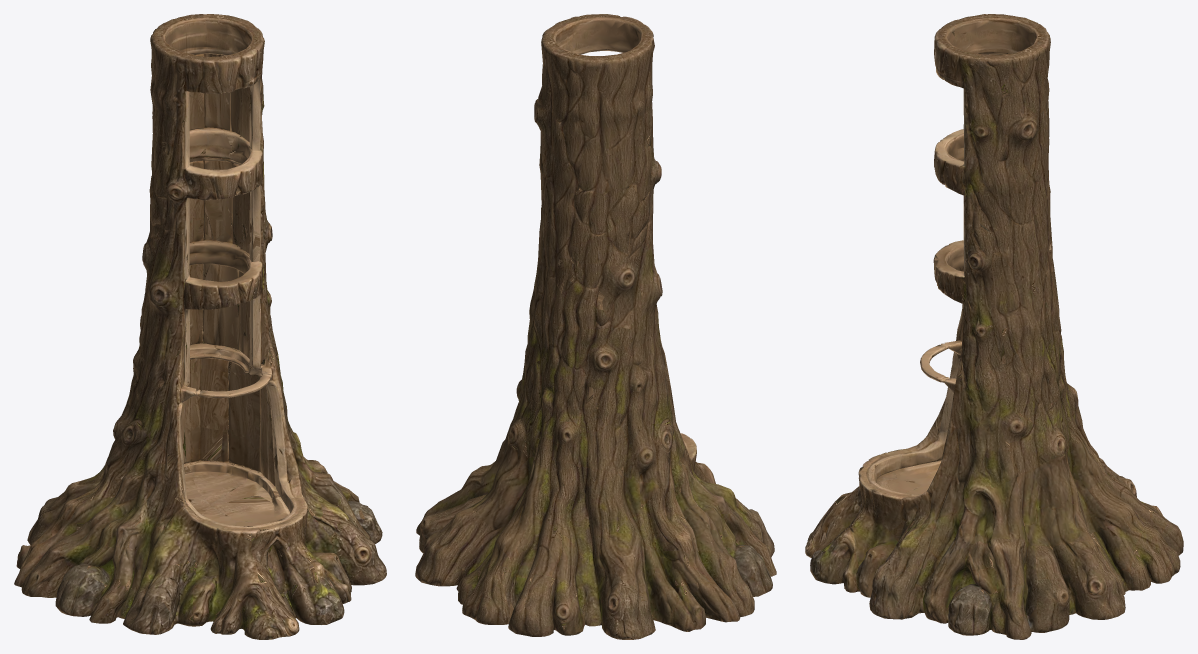
File: trunk_base.glb
The picture shows the model from 3 angles, left to right: view 1: azimuth 30°, elevation 25°; view 2: azimuth 150°, elevation 25°; view 3: azimuth 270°, elevation 25°; orthographic projection.
Bounding box in the file's own units: 1.28 × 1.9 × 1.25.
Materials: 1 (1 with a texture image).
